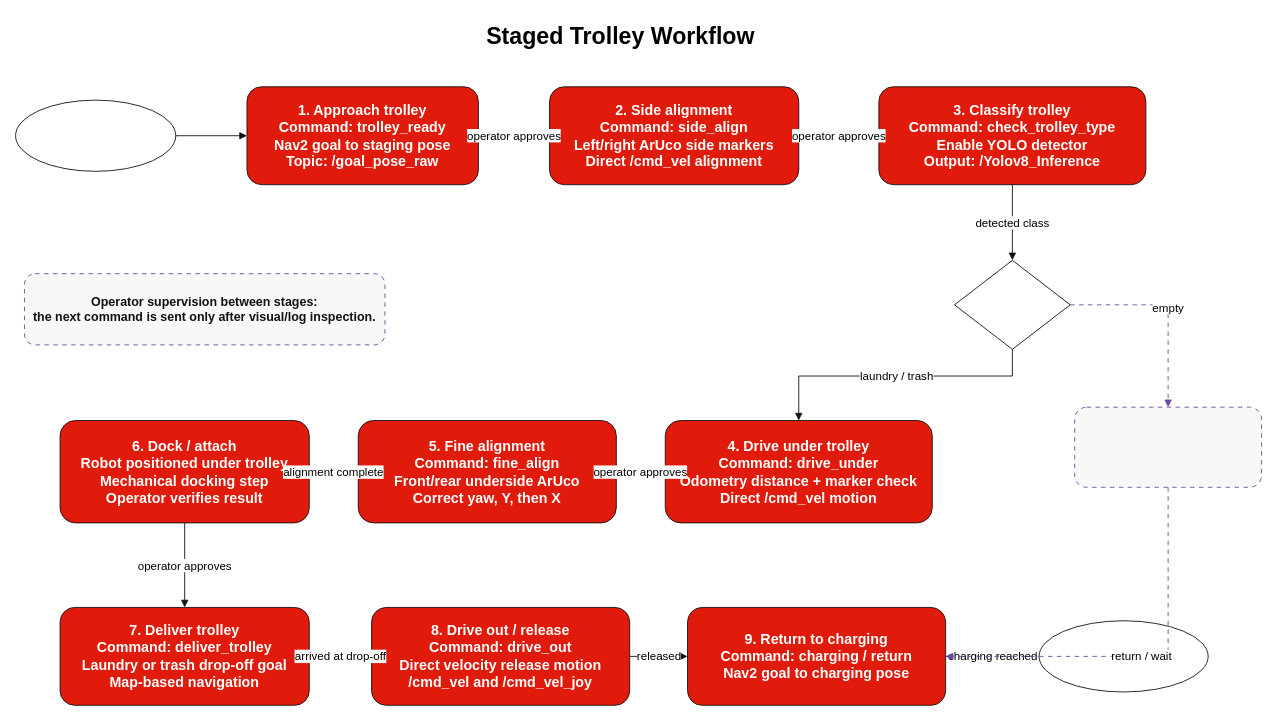
This 1277x721 diagram has some shape labels left out. The centre of each missing label's shape, as x and y in pixels:
"Empty trolley Cancel loaded-trolley delivery Return / wait for next task" goes at (x=1168, y=446).
"End Ready for next supervised run" goes at (x=1123, y=656).
"Start Robot at charging / ready pose" goes at (x=95, y=135).
"Trolley class? empty / laundry / trash" goes at (x=1012, y=304).
